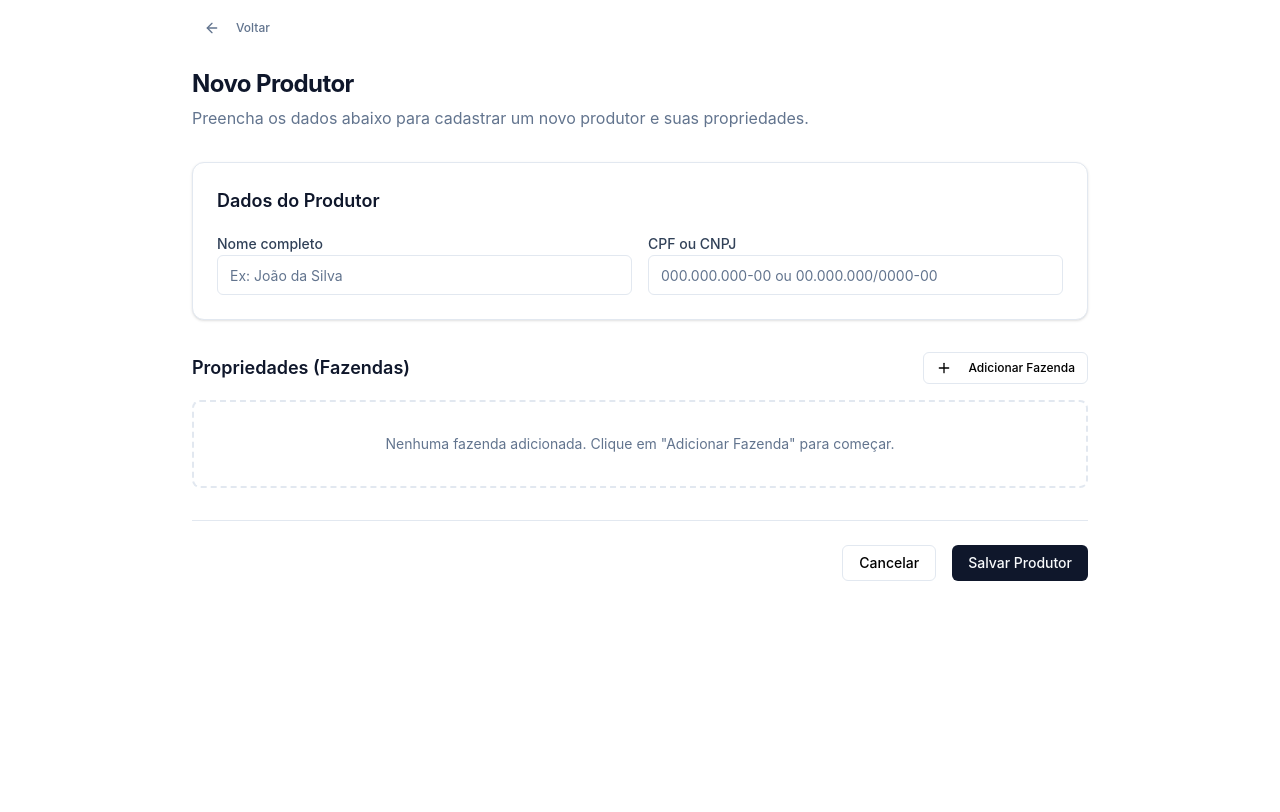
CreateProducer › allows adding and removing farms
Click the button "Adicionar Fazenda" at (1006, 368), box [923,352,1088,384]
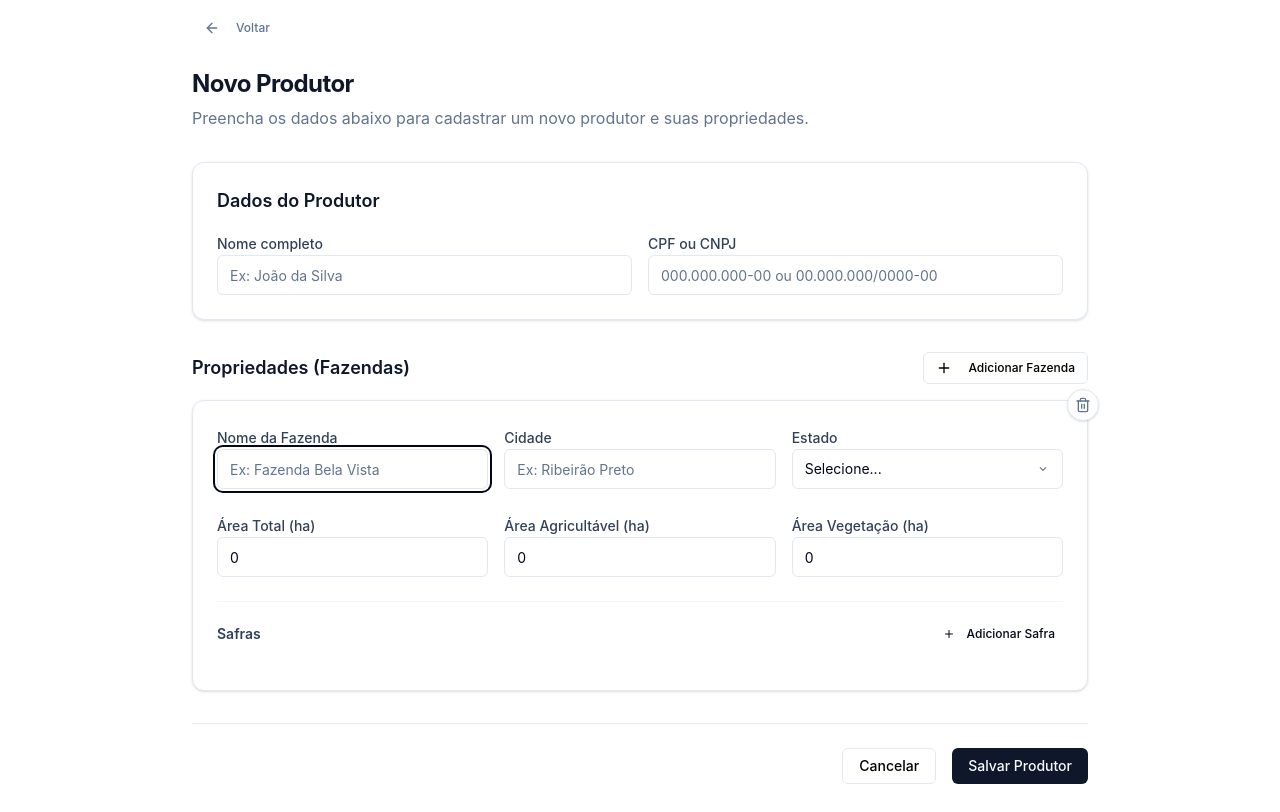
Expected: the field labelled "Nome da Fazenda" is shown, [217,449,488,489]
Click the button titled "Remover fazenda" at (1083, 405), box [1067,389,1099,421]
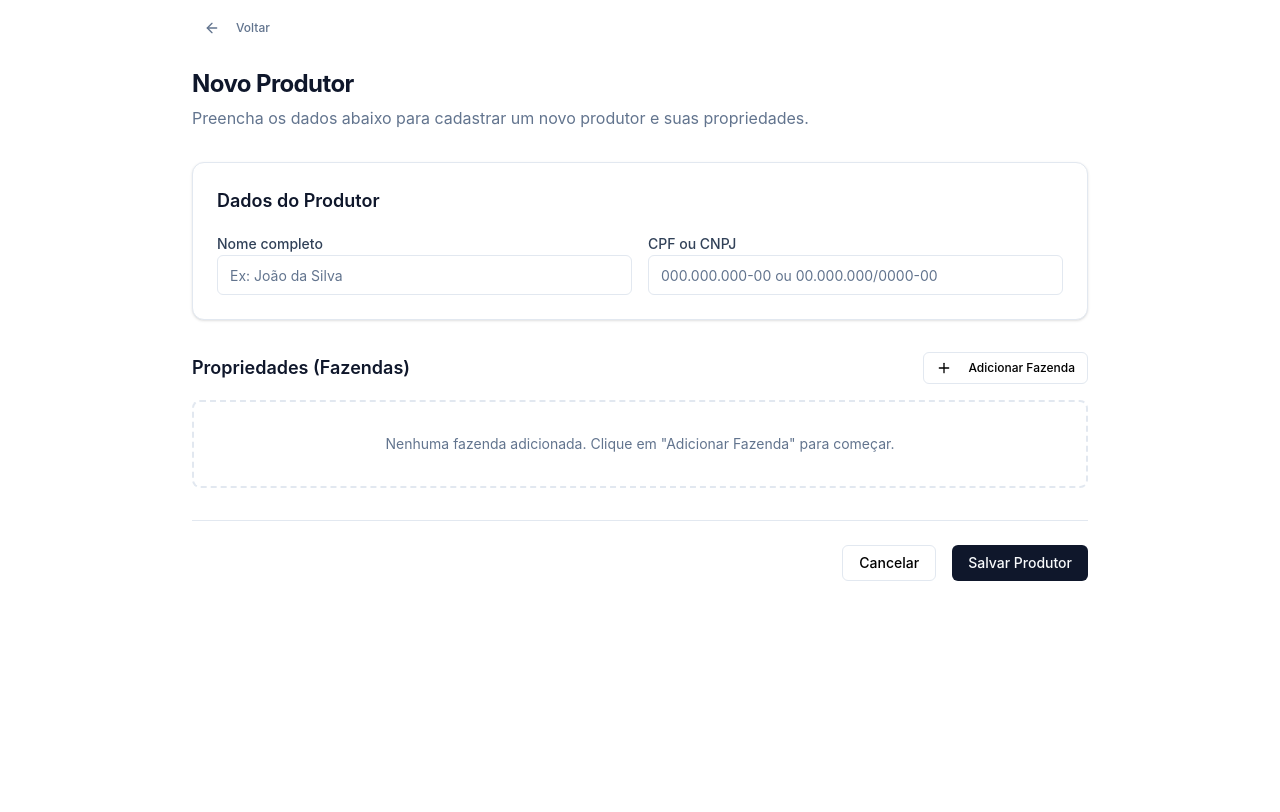
Expected: the label labelled "Nome da Fazenda" is gone
